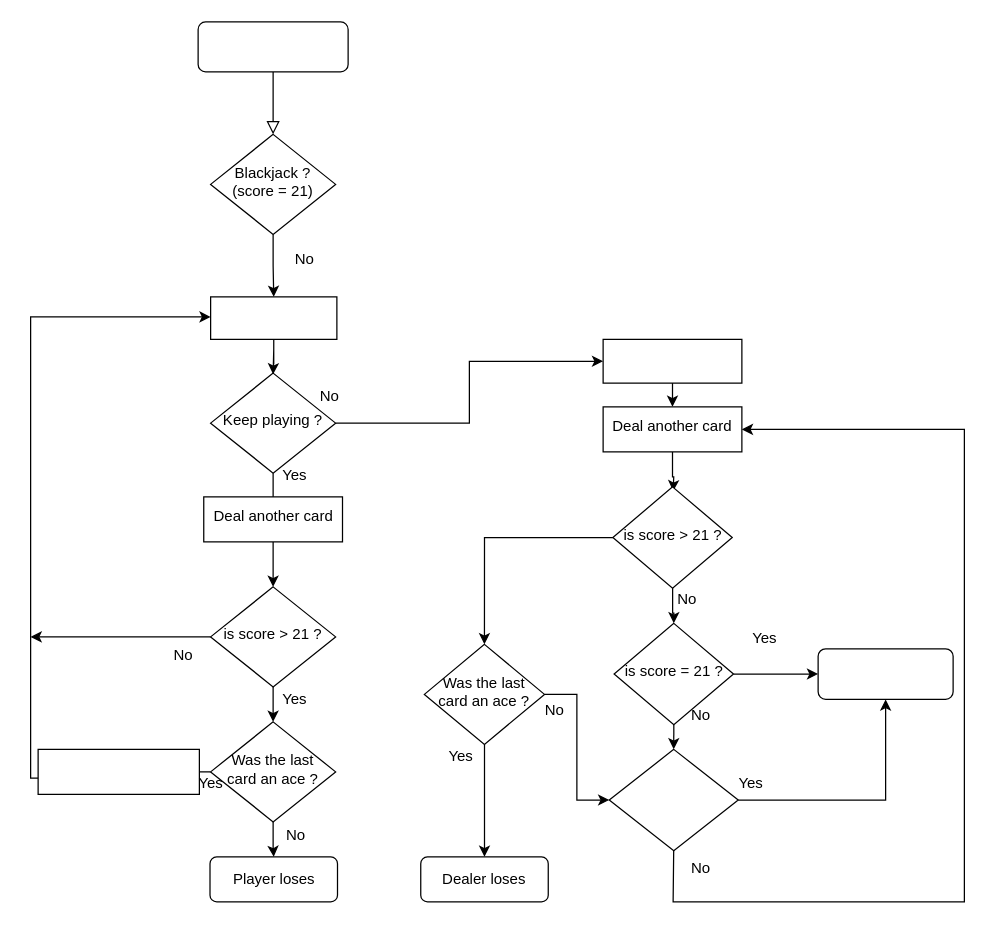
Image size: 996x934. Some labels were removed from this diagram. Here are the shapes that lost their labels. From the top down, the centre of each, then its label:
(x=272, y=46): Player is dealt two cards, the dealer one
(x=273, y=317): Prompt the user to continue or not
(x=672, y=360): Deal a card to dealer
(x=885, y=673): Dealer wins
(x=118, y=771): Do score - 10 (change value of ace to 1)
(x=673, y=799): is dealer' score higher than player's ?
